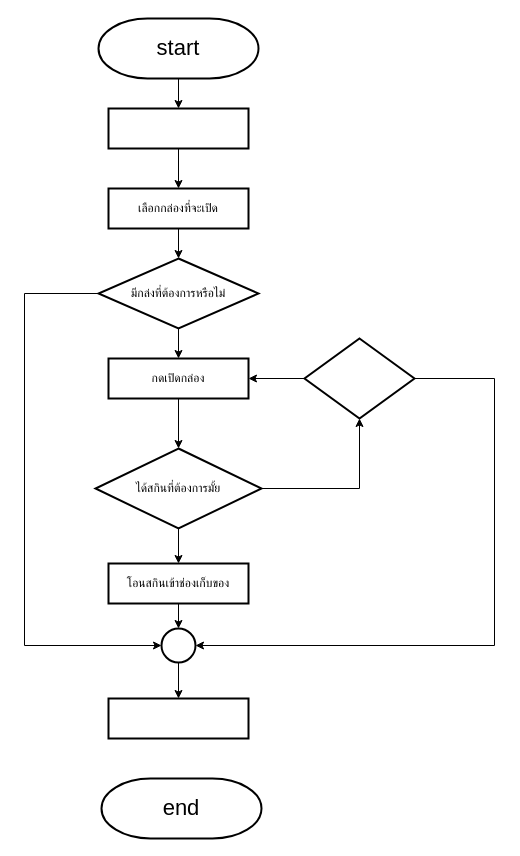
Image size: 520x856. Some labels were removed from this diagram. Here are the shapes that lost their labels. From the top down, the centre of each, then its label:
point (178, 128): เข้าเว็บสุ่มสกิน
point (359, 378): เปิดต่อมั้ย
point (178, 718): ปิดเว็บสุ่ม
